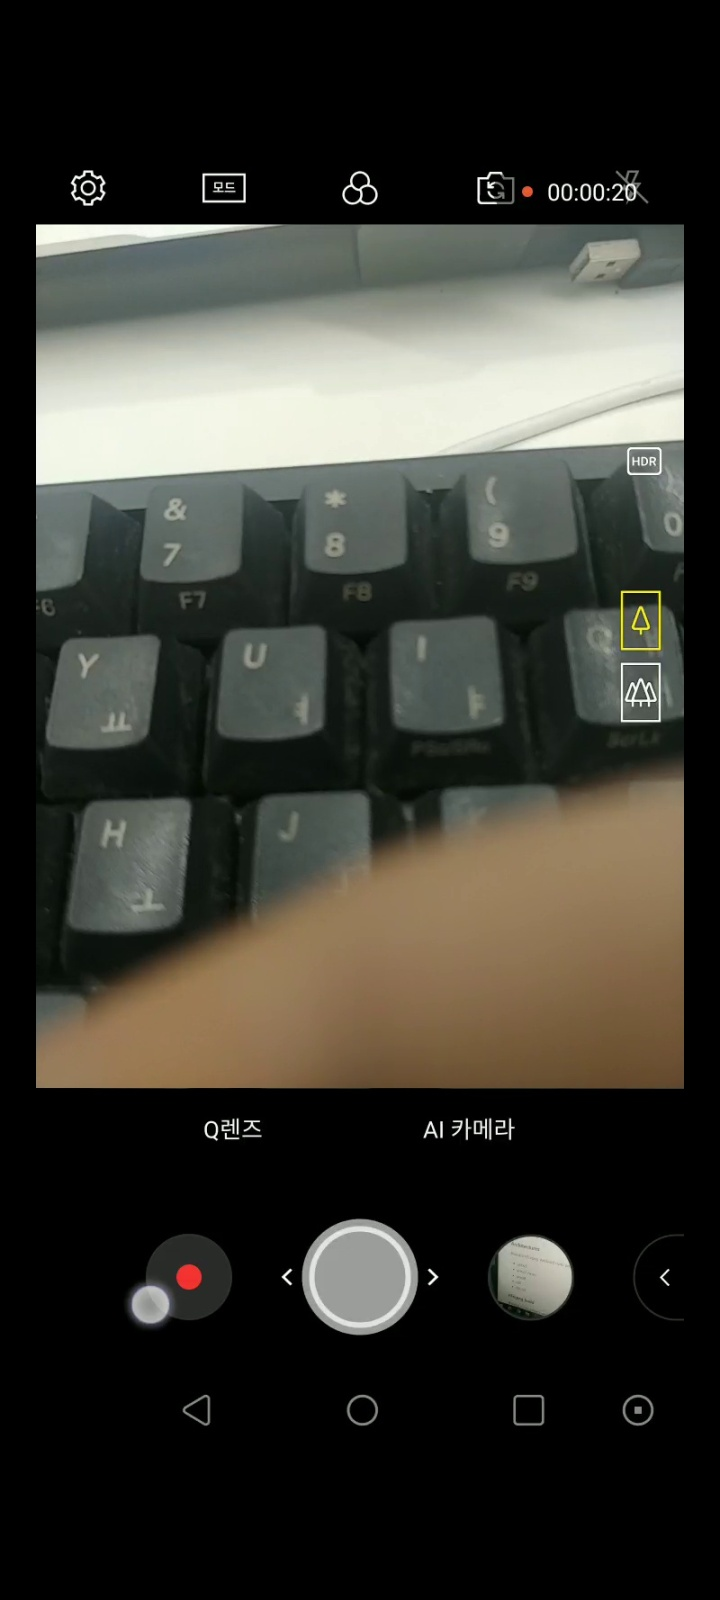Cursor: (128, 1284, 174, 1329)
